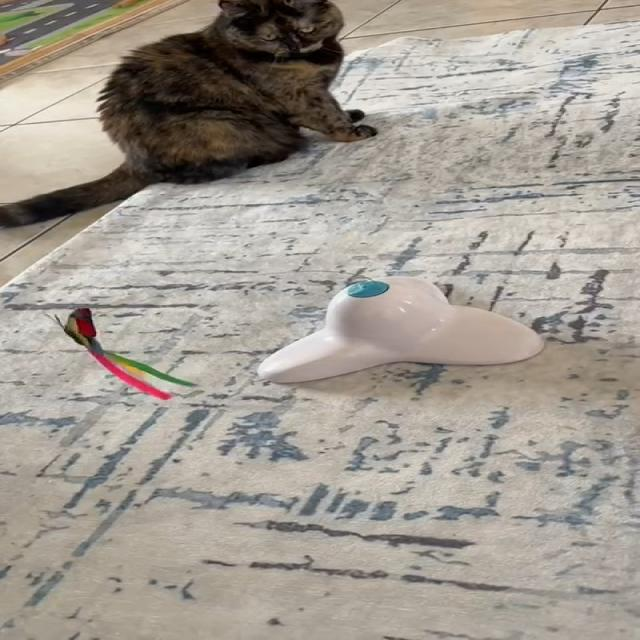authorized: (0, 0, 377, 229)
